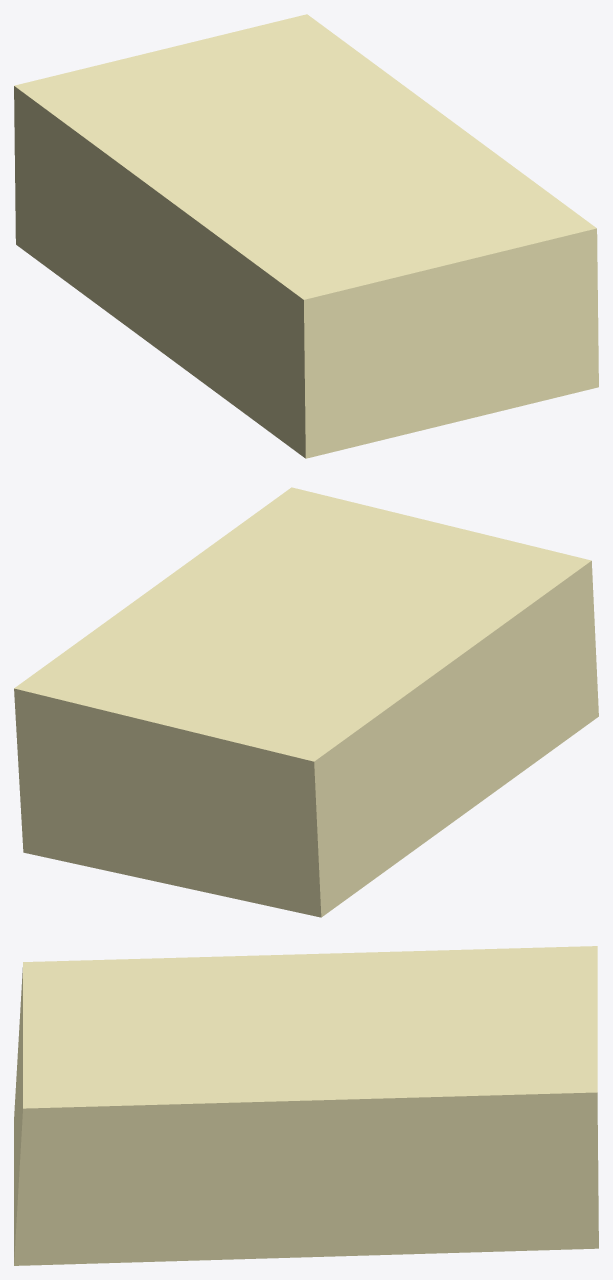
The model's file is butterstick.fbx.
The picture shows the model from 3 angles, top to bottom: view 1: azimuth 30°, elevation 25°; view 2: azimuth 150°, elevation 25°; view 3: azimuth 270°, elevation 25°; orthographic projection. The views are drawn at different scales.
Parts seen in each view (by area): view 1: Cube; view 2: Cube; view 3: Cube.
Part boxes in pixels (<box>): Cube: <box>14,14,598,458</box>; Cube: <box>14,487,598,917</box>; Cube: <box>14,946,598,1265</box>.
Size of the model in its own units: 49.95 by 25.99 by 81.01.
